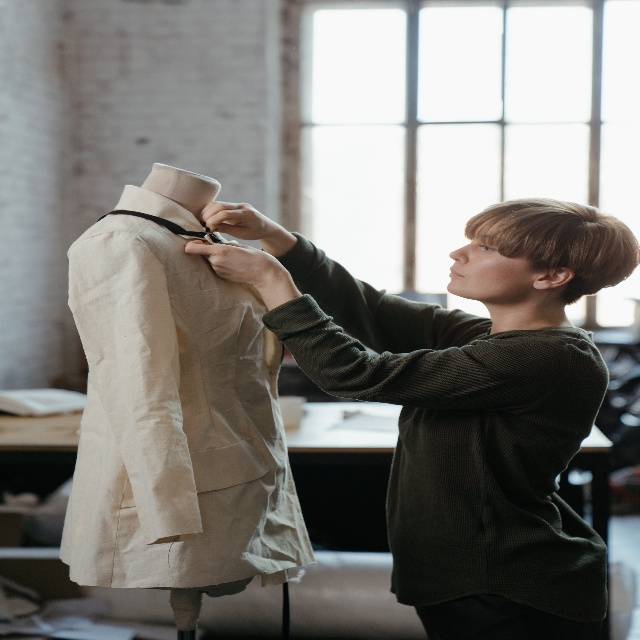Sin_guantes: (184, 238, 273, 286), (198, 199, 266, 241)
